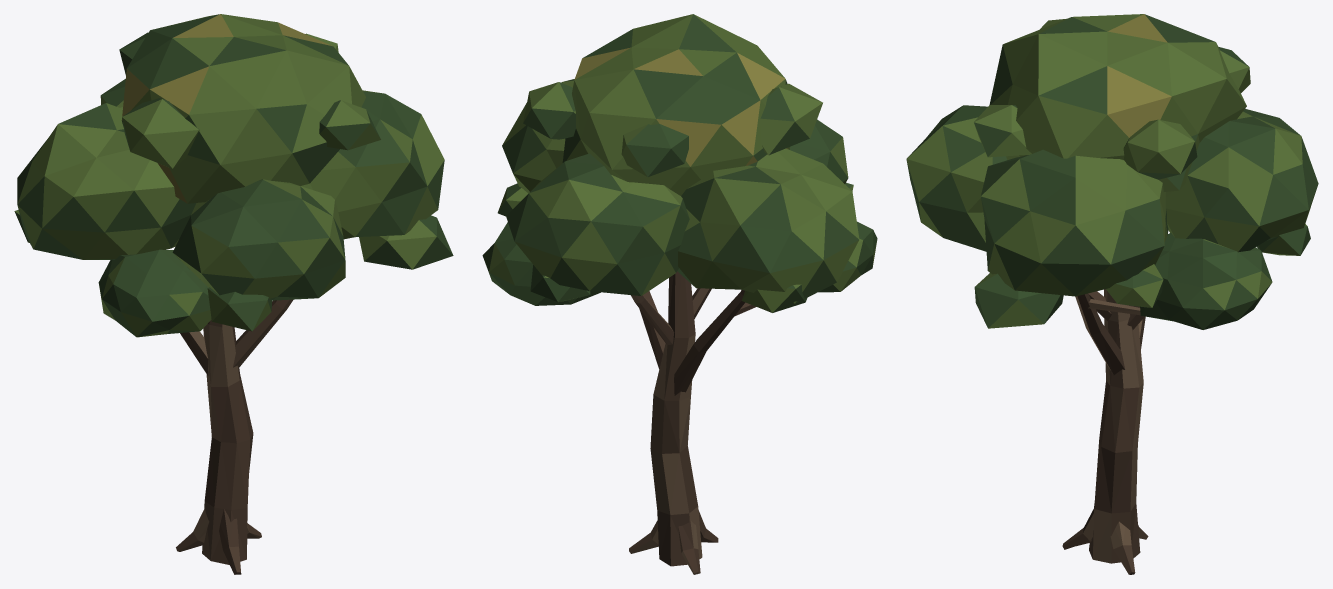
The model's file is tree_a.fbx.
The picture shows the model from 3 angles, left to right: view 1: azimuth 30°, elevation 25°; view 2: azimuth 150°, elevation 25°; view 3: azimuth 270°, elevation 25°; orthographic projection. The views are drawn at different scales.
Parts seen in each view (by area): view 1: tree_a; view 2: tree_a; view 3: tree_a.
Part boxes in pixels (bbox=[...]): tree_a: bbox=[14, 14, 453, 574]; tree_a: bbox=[482, 14, 877, 574]; tree_a: bbox=[906, 14, 1318, 574].
Size of the model in its own units: 3.39 by 4.61 by 3.23.
